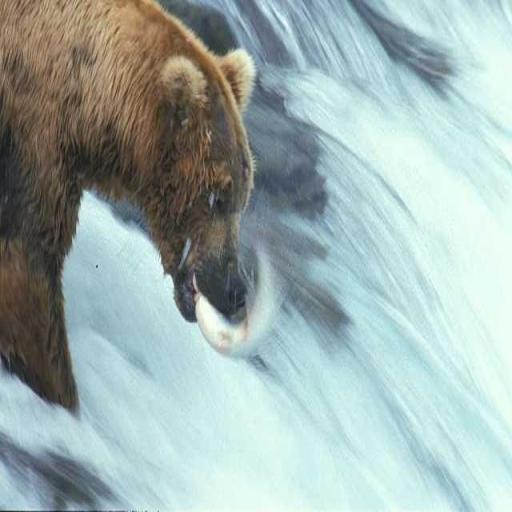Bear: (0, 0, 258, 417)
